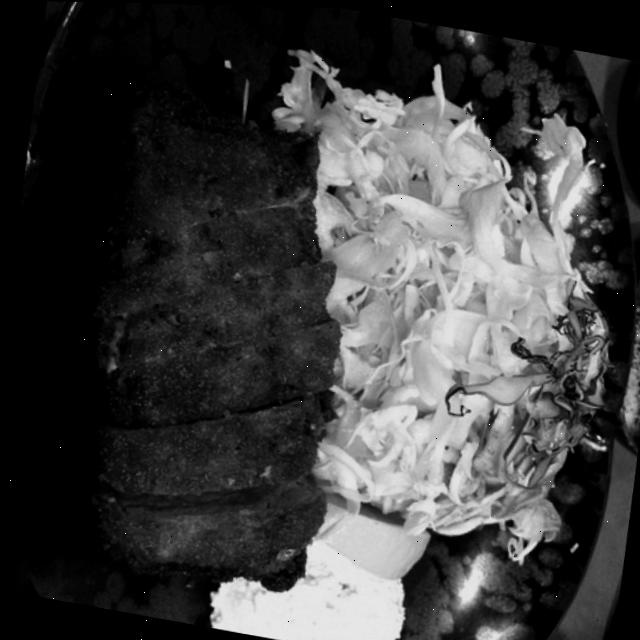牛肉菜式: (13, 33, 420, 626)
